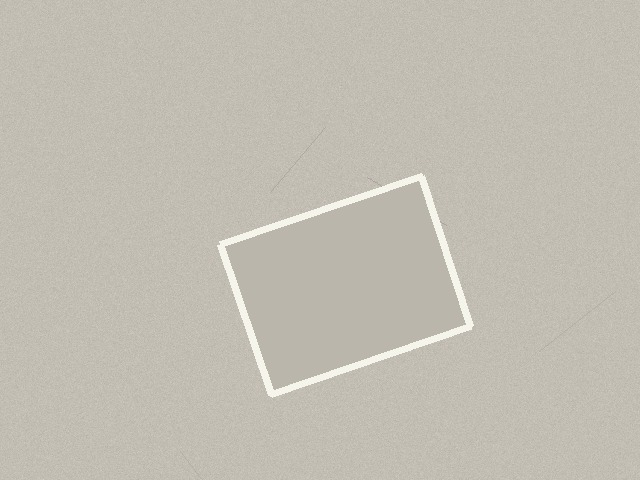parking_area: (220, 176, 470, 394)
